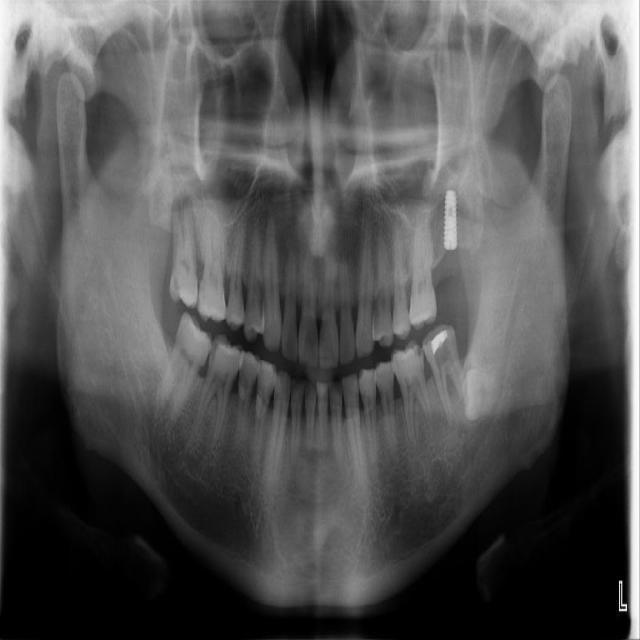52: (412, 319, 468, 374)
73: (616, 592, 620, 596)
Biomet 3i Implant: (461, 367, 501, 420)
Blue Sky Bio Implant: (418, 322, 472, 425)
Caries: (167, 200, 198, 310)
Implant: (153, 311, 220, 417)
